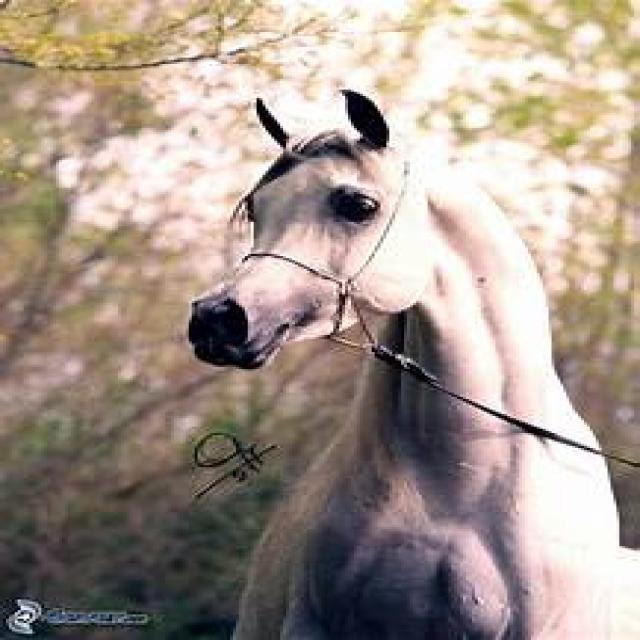horse: (183, 90, 640, 640)
